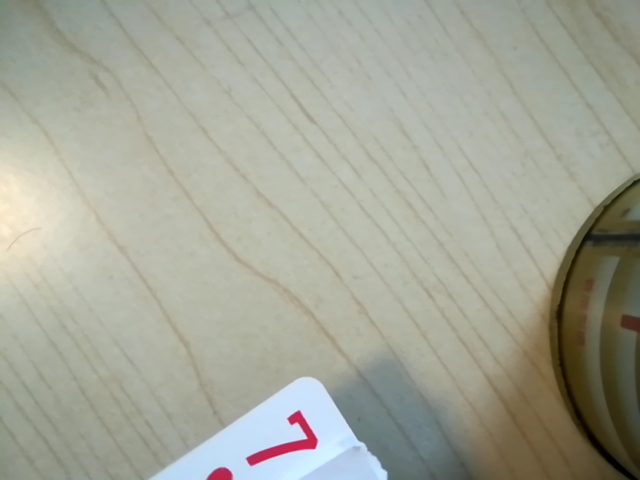hx 7: (169, 424, 343, 476)
